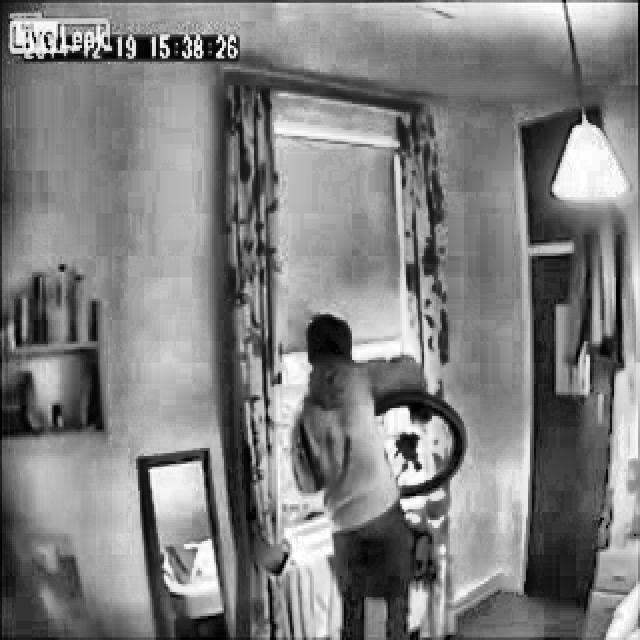burglary: (274, 309, 473, 640)
